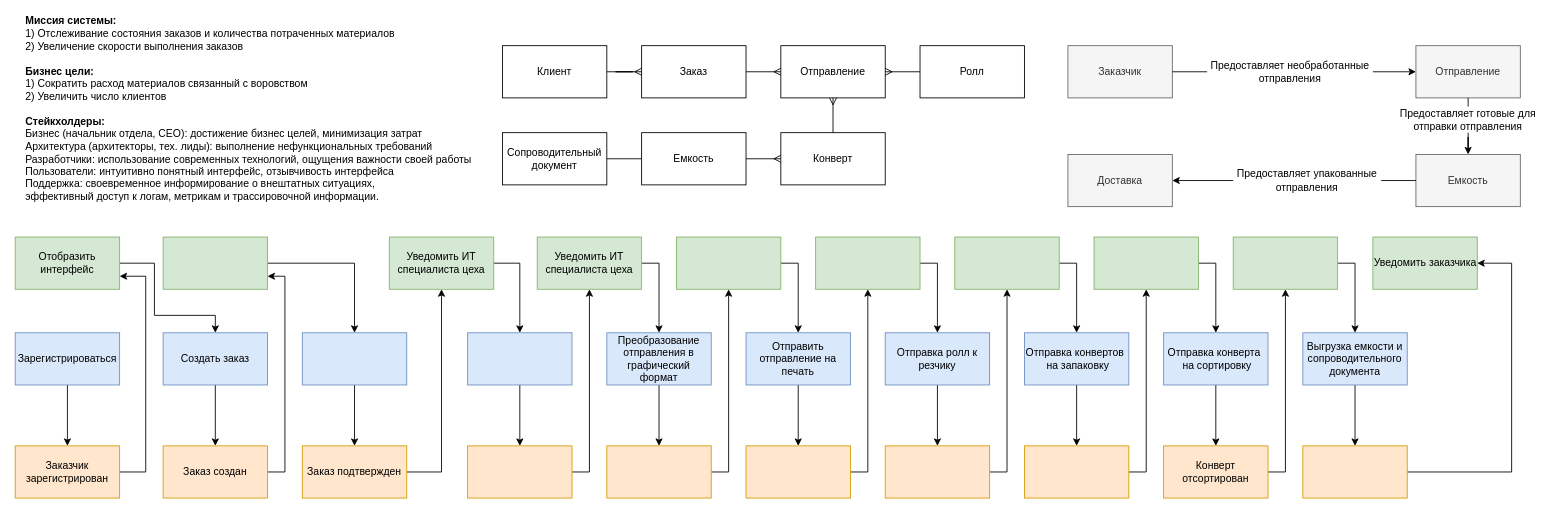
Some shapes in this 1557 by 513 pixel diagram are drawn without their labels. Here are the shapes that lost their labels. From the top down, the centre of each, then its label:
At pixel 215 262: "Заказ отображается".
At pixel 728 262: "Уведомить печатника".
At pixel 867 262: "Уведомить резчика".
At pixel 1006 262: "Уведомить конвертовальщика".
At pixel 1145 262: "Уведомить упаковщика".
At pixel 1285 262: "Уведомить грузчика".
At pixel 354 358: "Подтверждение заказа".
At pixel 519 358: "Провалидировать и нормализовать отправление".
At pixel 519 471: "Отправление провалидированы и нормализованы".
At pixel 658 471: "Отправление преобразовано в графический формат".
At pixel 797 471: "Отправление распечатано".
At pixel 937 471: "Ролл разрезан".
At pixel 1076 471: "Отправление запаковано".
At pixel 1354 471: "Емкость и сопроводительный документ выгружены".
